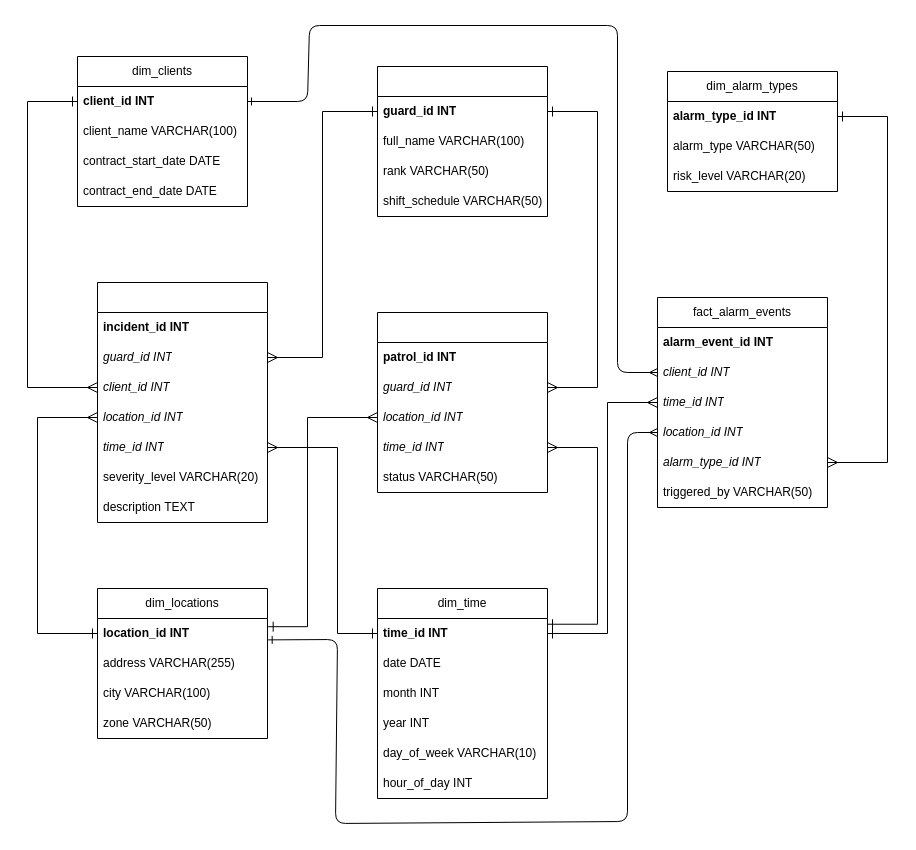
The diagram is 916 pixels wide and 850 high, and some of its shapes have lost their labels. Each missing label, with the box of its shape:
dim_guards: (376, 66, 548, 216)
fact_incidents: (96, 282, 268, 522)
fact_patrols: (376, 312, 548, 492)
